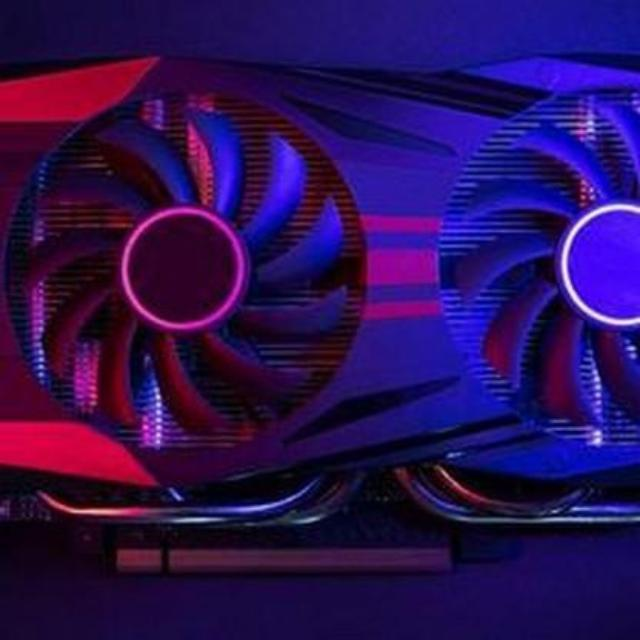GPU: (0, 54, 640, 560)
